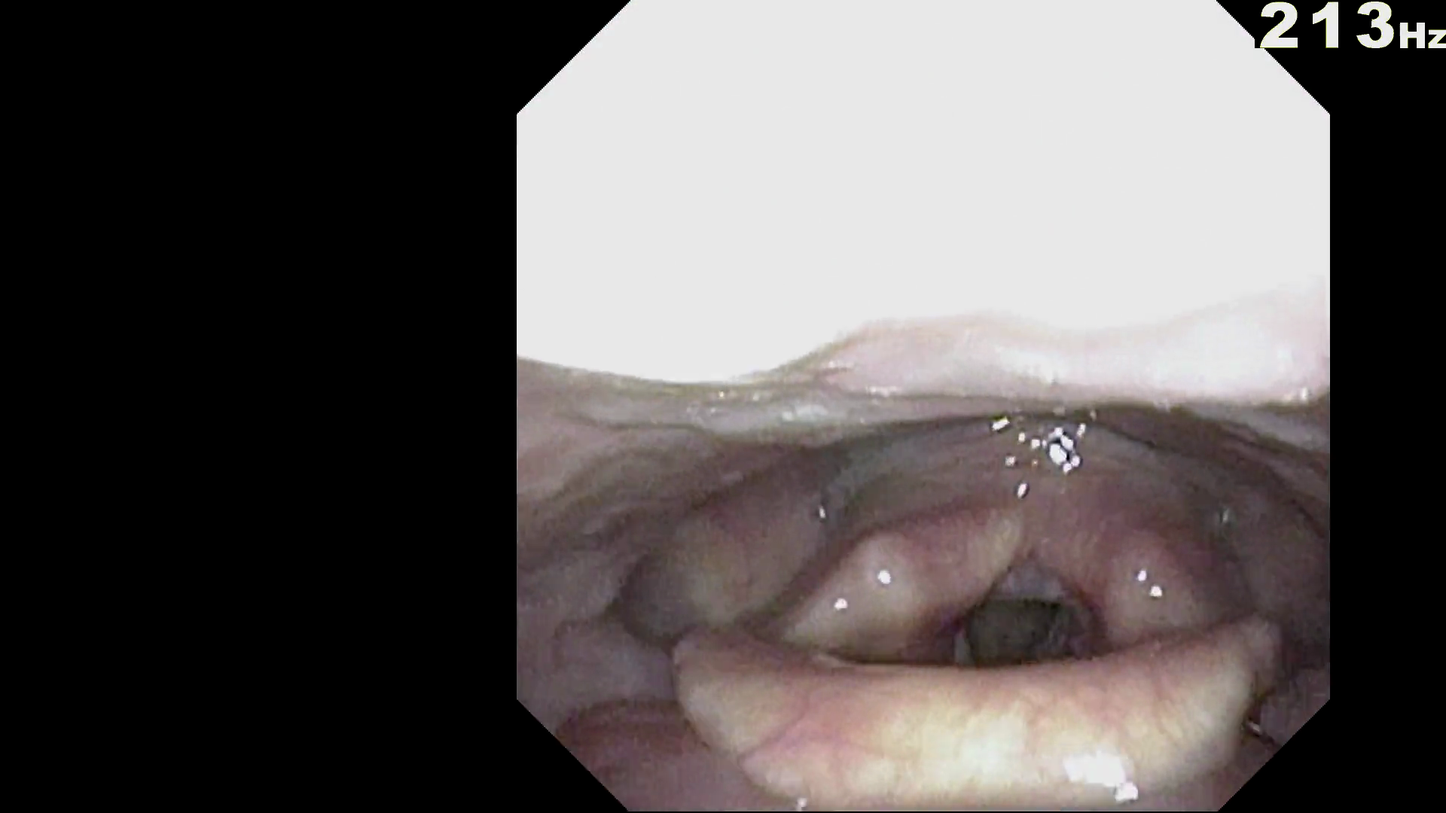epiglottis: (693, 657, 1235, 796)
trachea: (942, 576, 1073, 689)
